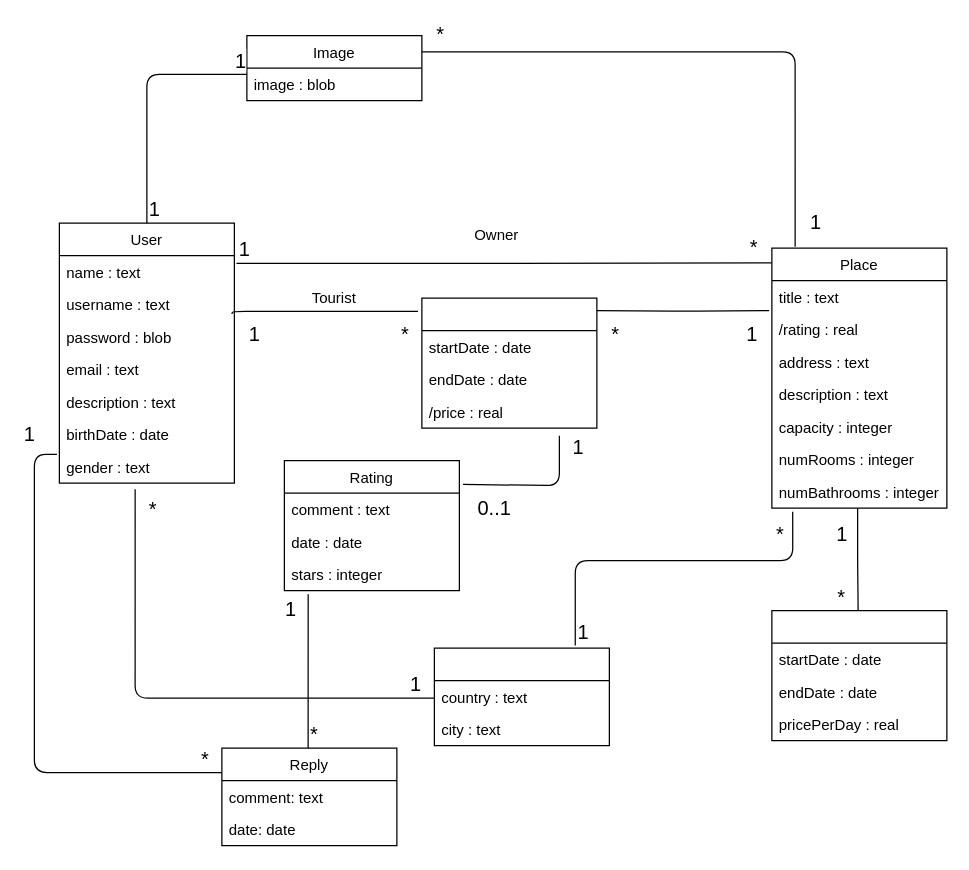
Some shapes in this 969 by 870 pixel diagram are drawn without their labels. The shapes that lost their labels are listed below. From the top down, each one's box as (x1, y1, x2, y2) in pixels, then its label:
(421, 297, 597, 428): Reservation
(771, 609, 947, 741): Availability
(433, 647, 609, 746): Location
